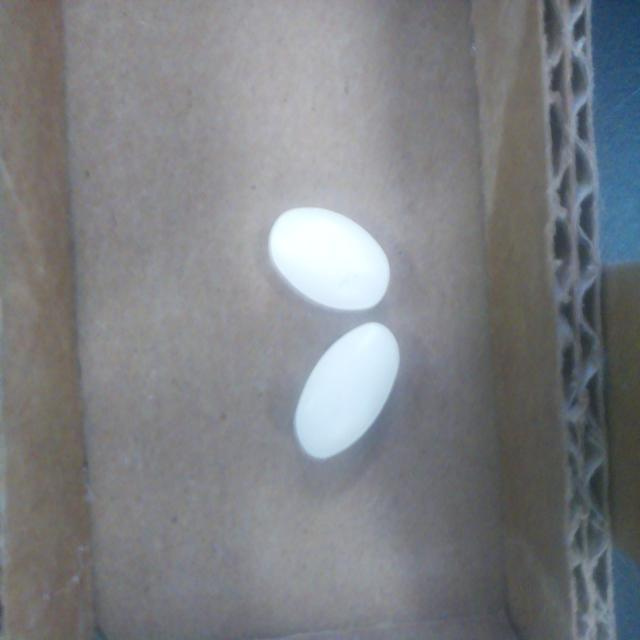pill: (294, 323, 399, 460), (268, 206, 391, 312)
